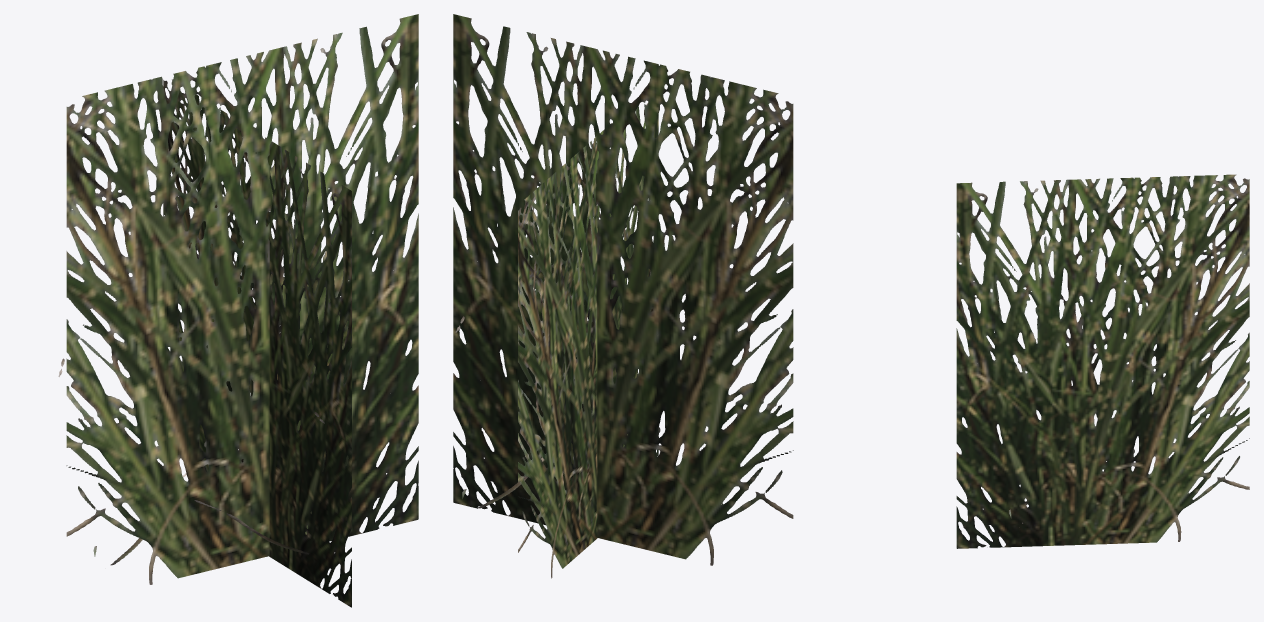
File: grass_05.FBX
The picture shows the model from 3 angles, left to right: view 1: azimuth 30°, elevation 25°; view 2: azimuth 150°, elevation 25°; view 3: azimuth 270°, elevation 25°; orthographic projection. The views are drawn at different scales.
Parts seen in each view (by area): view 1: grass_05; view 2: grass_05; view 3: grass_05.
Part boxes in pixels (<box>): grass_05: <box>58,14,418,607</box>; grass_05: <box>453,14,793,578</box>; grass_05: <box>956,174,1249,548</box>.
Size of the model in its own units: 12.51 by 16.4 by 11.85.
